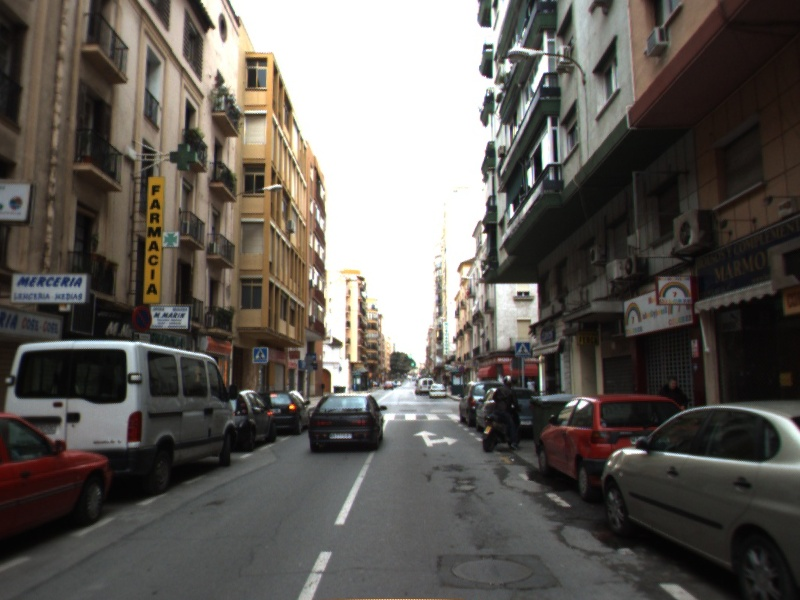STRAIGHT_RIGHT: (412, 429, 460, 448)
